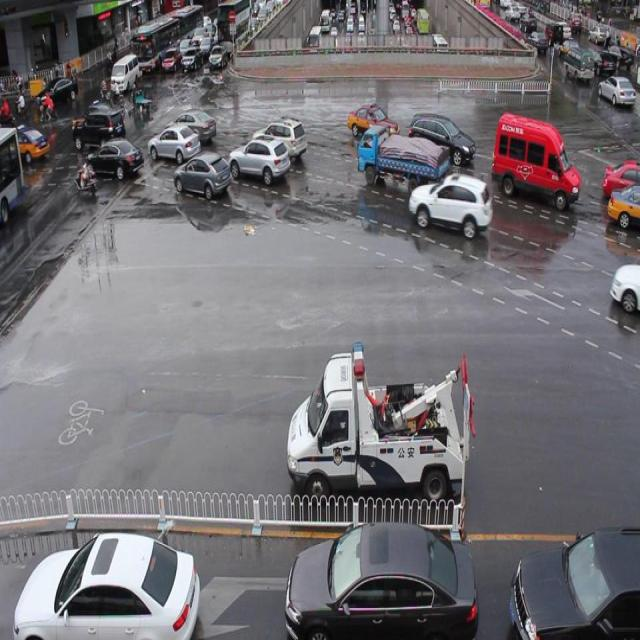bus: (287, 338, 475, 506), (360, 127, 448, 193)
car: (287, 519, 476, 640), (14, 528, 198, 640), (510, 525, 640, 640), (410, 174, 491, 236), (410, 111, 474, 166), (231, 138, 290, 182), (175, 153, 230, 197), (253, 116, 305, 162), (348, 105, 399, 143), (150, 125, 200, 163), (610, 260, 640, 315), (601, 158, 640, 198), (604, 186, 640, 228), (170, 110, 216, 142)
truck: (491, 114, 579, 208)
